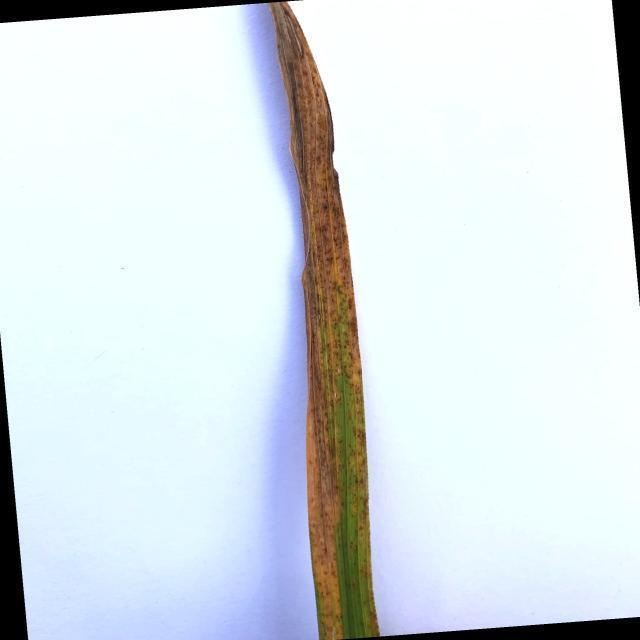Rice Tungro: (268, 0, 382, 640)
